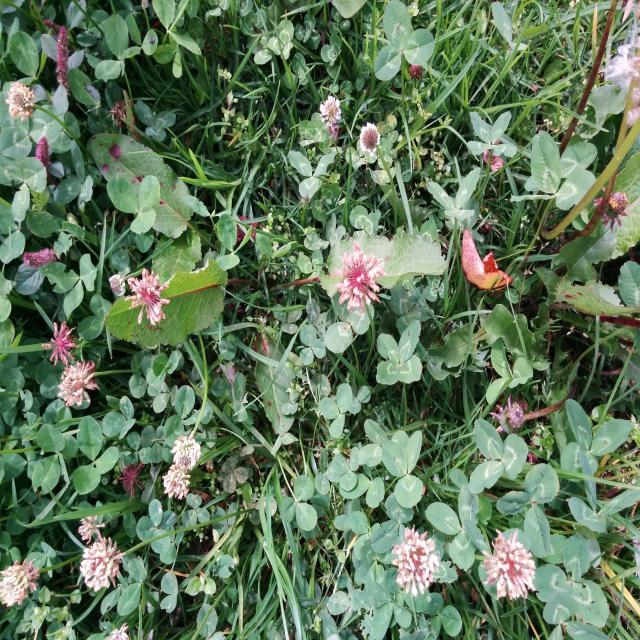Four Leaf Clover: (376, 319, 422, 385)
